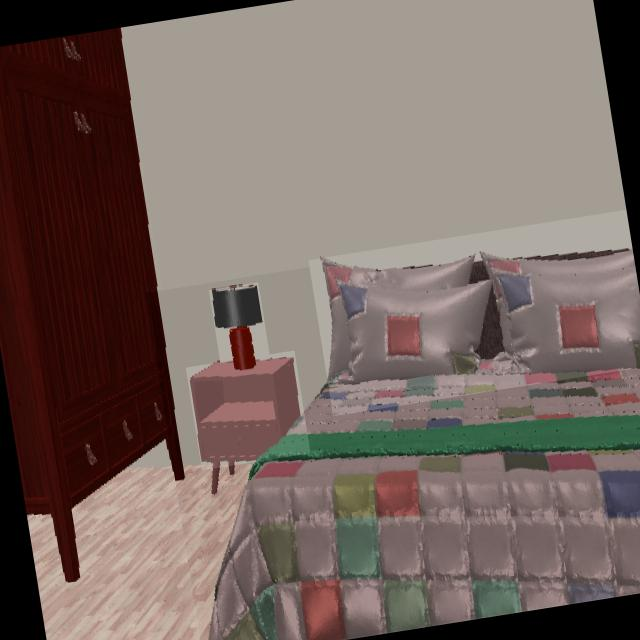bed: (208, 252, 640, 640)
lamp: (212, 285, 264, 376)
nighttable: (190, 359, 302, 468)
pillow: (320, 250, 640, 386)
wardrobe: (0, 28, 181, 577)
